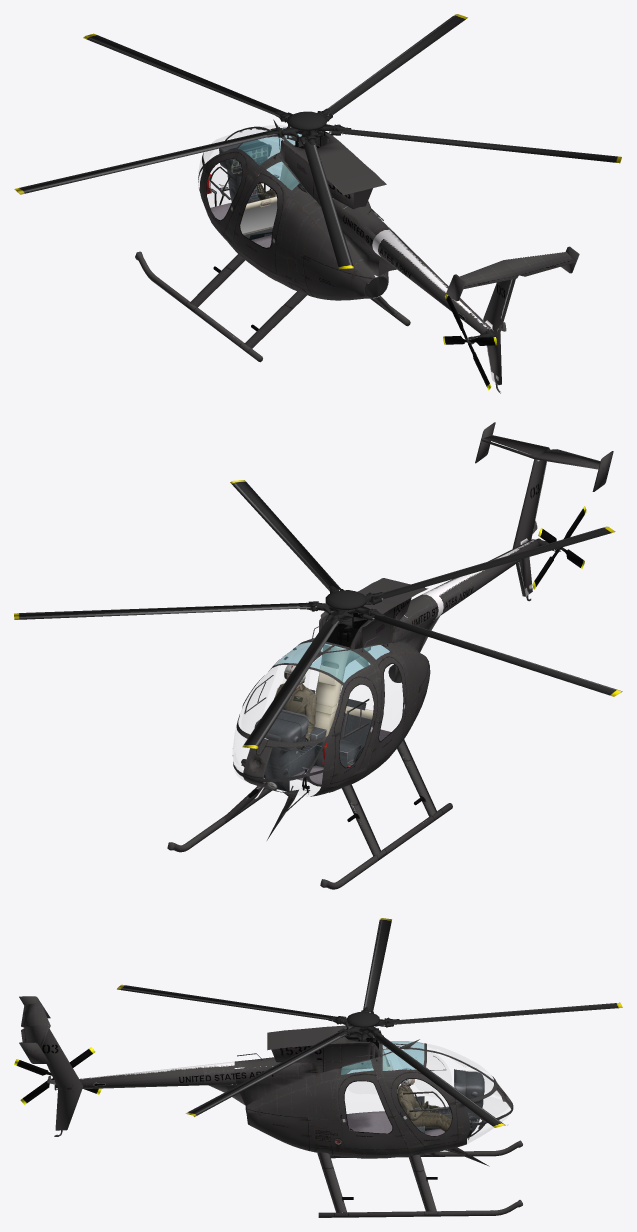
The picture shows the model from 3 angles, top to bottom: view 1: azimuth 30°, elevation 25°; view 2: azimuth 150°, elevation 25°; view 3: azimuth 270°, elevation 25°; orthographic projection. The views are drawn at different scales.
Parts seen in each view (by area): view 1: ext_fuselage1, rotor_main, ext_tail, ext_fuselage2, int_console, glasss_grn, int_seats2, rotor_tail, glass; view 2: rotor_main, ext_fuselage1, ext_fuselage2, ext_tail, int_console, int_fuselage3, int_seats2, glasss_grn, int_pilotR, glass, rotor_tail; view 3: ext_fuselage1, rotor_main, ext_tail, ext_fuselage2, glass, int_pilotR, glasss_grn, int_console, int_fuselage4, rotor_tail.
Part boxes in pixels (box(x1,y1,x2,y2)): ext_fuselage1: box(198, 119, 391, 298); rotor_main: box(14, 14, 621, 269); ext_tail: box(344, 204, 579, 393); ext_fuselage2: box(135, 127, 410, 362); int_console: box(206, 139, 271, 203); glasss_grn: box(238, 128, 301, 190); int_seats2: box(233, 196, 333, 239); rotor_tail: box(443, 294, 497, 390); glass: box(198, 125, 286, 206); rotor_main: box(14, 480, 622, 748); ext_fuselage1: box(232, 587, 438, 840); ext_fuselage2: box(167, 578, 452, 889); ext_tail: box(404, 422, 613, 652); int_console: box(254, 709, 327, 791); int_fuselage3: box(314, 644, 370, 736); int_seats2: box(275, 687, 373, 767); glasss_grn: box(274, 638, 389, 682); int_pilotR: box(241, 663, 316, 778); glass: box(233, 666, 310, 781); rotor_tail: box(532, 506, 586, 589); ext_fuselage1: box(235, 1030, 508, 1166); rotor_main: box(117, 918, 622, 1127); ext_tail: box(19, 996, 280, 1136); ext_fuselage2: box(246, 1025, 522, 1217); glass: box(348, 1044, 509, 1143); int_pilotR: box(397, 1068, 472, 1135); glasss_grn: box(341, 1041, 424, 1074); int_console: box(425, 1069, 484, 1132); int_fuselage4: box(346, 1106, 448, 1135); rotor_tail: box(14, 1047, 101, 1104).
Bounding box in the file's own units: 7.48 × 2.89 × 9.2.
11 materials, 11 textured.
